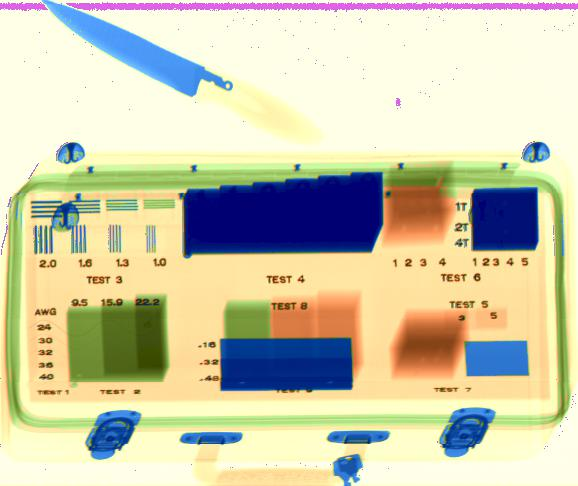Knife: (41, 1, 323, 147)
